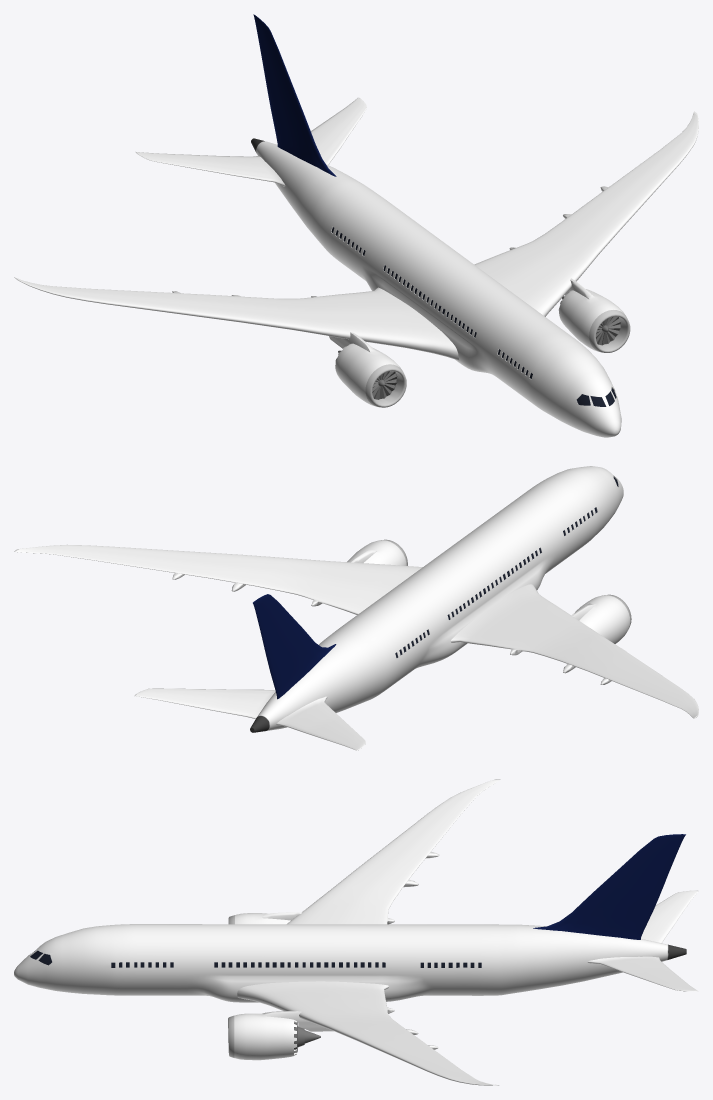
File: Boeing 787 1_4.fbx
3 views of the same model, one above another, from view 1: azimuth 30°, elevation 25°; view 2: azimuth 150°, elevation 25°; view 3: azimuth 270°, elevation 25° (orthographic). The views are drawn at different scales.
Parts seen in each view (by area): view 1: Kadłub 3, Skrzydła 3, Silniki 3, Statecznik pionowy 3, Statecznik poziomy 3; view 2: Kadłub 3, Skrzydła 3, Statecznik poziomy 3, Statecznik pionowy 3, Silniki 3; view 3: Kadłub 3, Skrzydła 3, Statecznik pionowy 3, Silniki 3, Statecznik poziomy 3.
Part boxes in pixels (x1,y1,x2,y2): Kadłub 3: [251, 138, 621, 437]; Skrzydła 3: [14, 111, 698, 360]; Silniki 3: [329, 278, 630, 407]; Statecznik pionowy 3: [253, 14, 336, 176]; Statecznik poziomy 3: [135, 97, 366, 186]; Kadłub 3: [250, 466, 623, 732]; Skrzydła 3: [14, 544, 698, 718]; Statecznik poziomy 3: [134, 688, 365, 750]; Statecznik pionowy 3: [253, 594, 336, 699]; Silniki 3: [347, 539, 631, 643]; Kadłub 3: [14, 924, 686, 1002]; Skrzydła 3: [237, 779, 500, 1085]; Statecznik pionowy 3: [533, 834, 685, 939]; Silniki 3: [228, 912, 333, 1060]; Statecznik poziomy 3: [587, 890, 698, 991].
Bounding box in the file's own units: 242 × 64.17 × 229.
